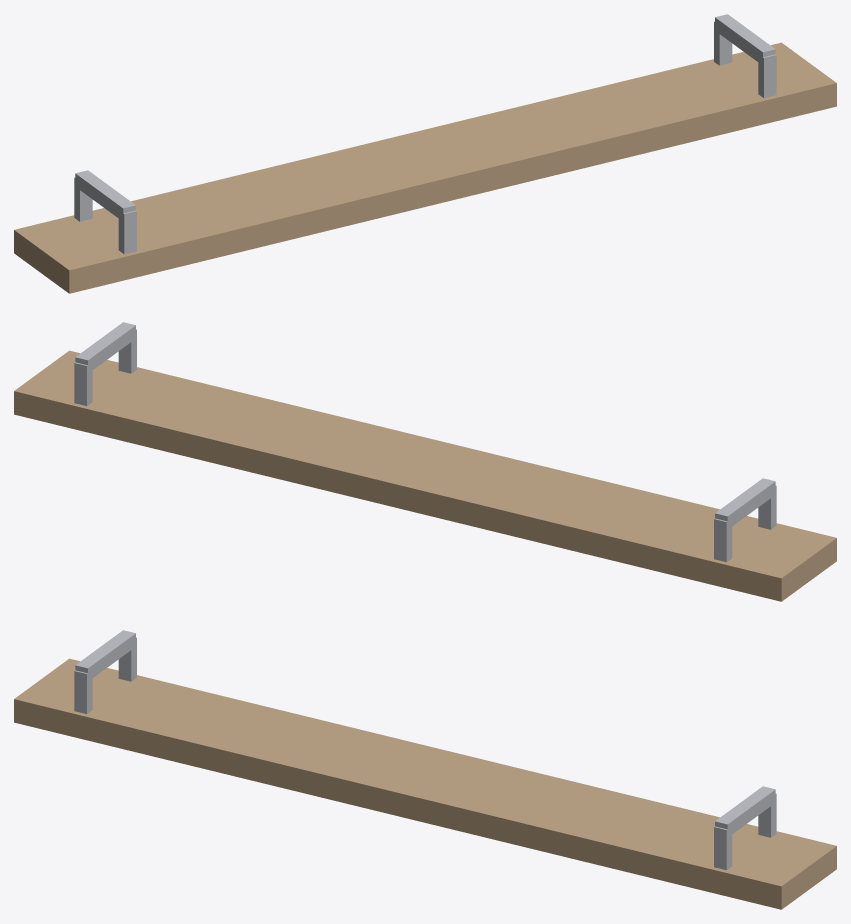
File: dm_teeterplank.glb
3 renders of one model, top to bottom at view 1: azimuth 30°, elevation 25°; view 2: azimuth 150°, elevation 25°; view 3: azimuth 330°, elevation 25°, orthographic.
Parts seen in each view (by area): view 1: TeeterPlank; view 2: TeeterPlank; view 3: TeeterPlank.
Boxes of the visible parts, bbox=[...] form: TeeterPlank: bbox=[14, 14, 836, 293]; TeeterPlank: bbox=[14, 322, 836, 601]; TeeterPlank: bbox=[14, 630, 836, 909].
Bounding box in the file's own units: 2.4 × 0.205 × 0.3.
